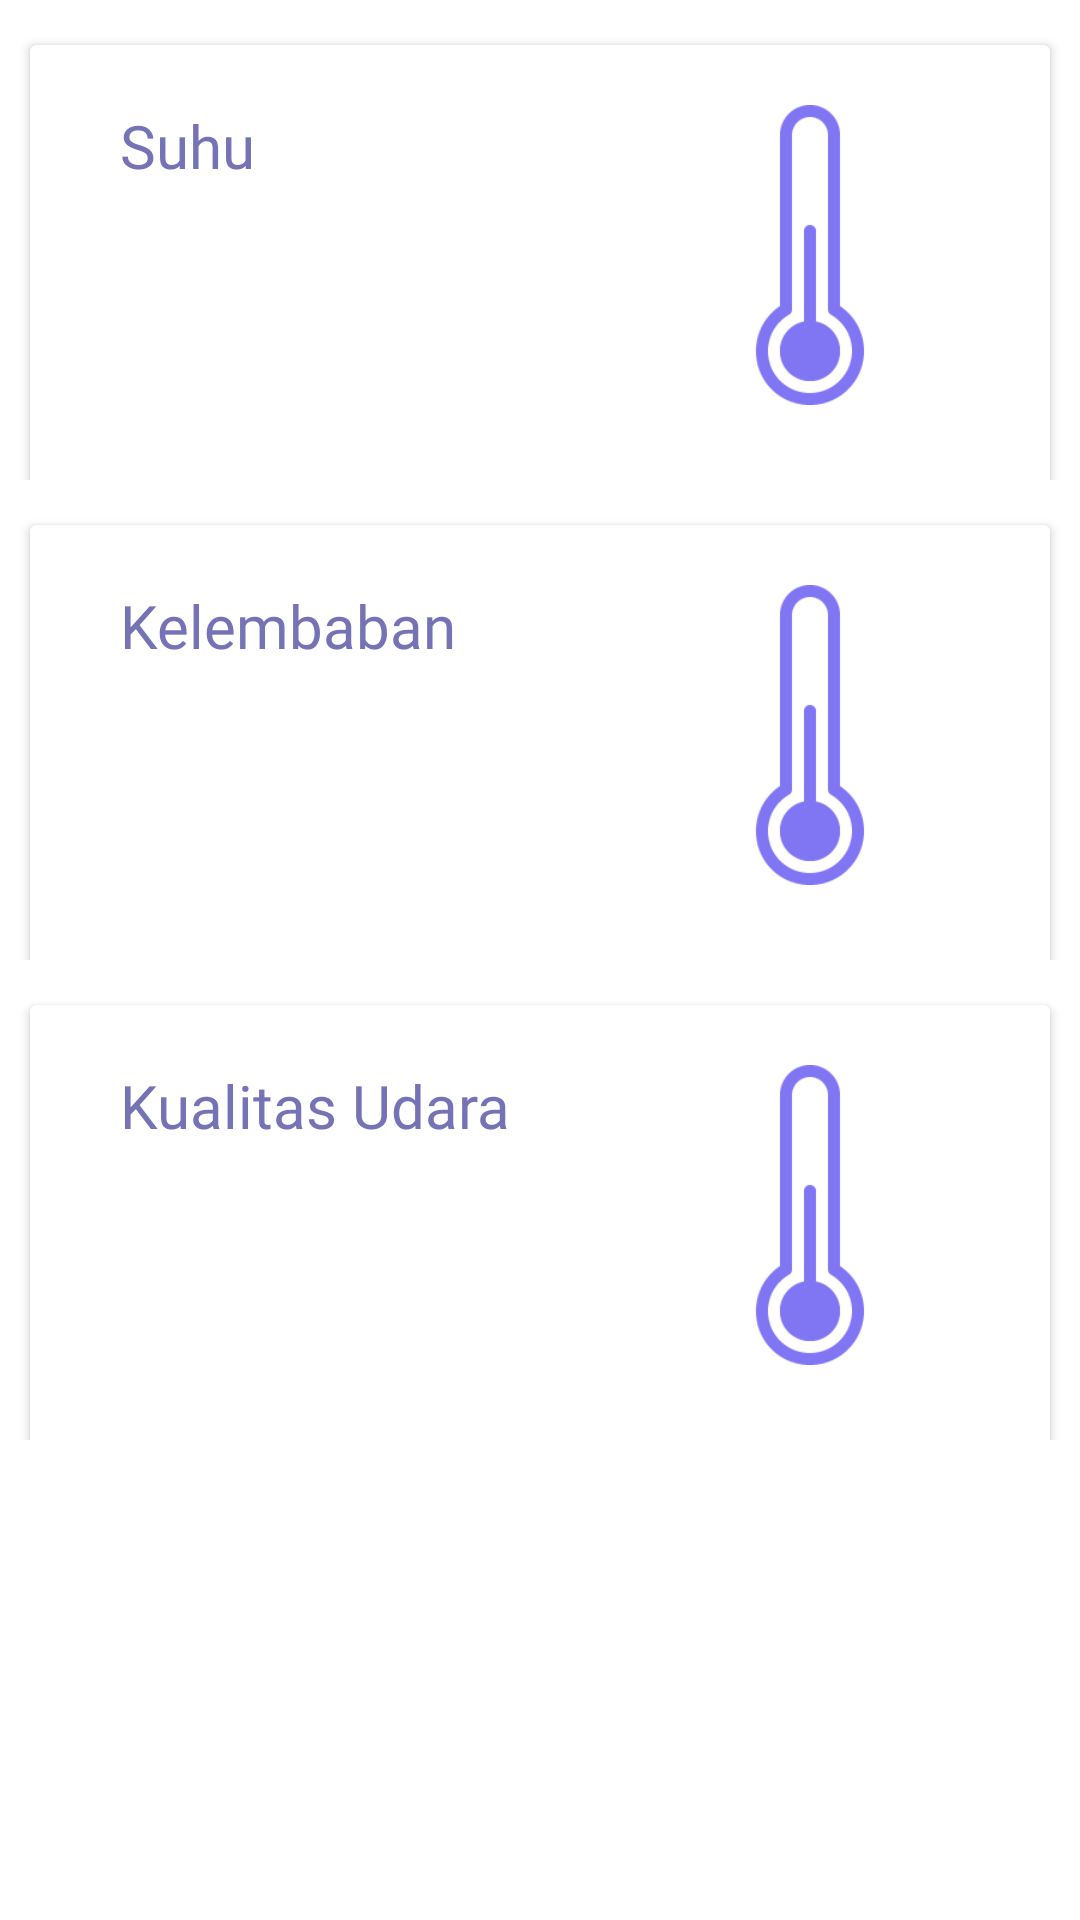

Icons on this 1080 x 1920 Android screen, each with its box as bbox=(x1, y1, x2, y2):
suhu: bbox=(756, 105, 864, 405), bbox=(756, 585, 864, 885), bbox=(756, 1065, 864, 1365)
